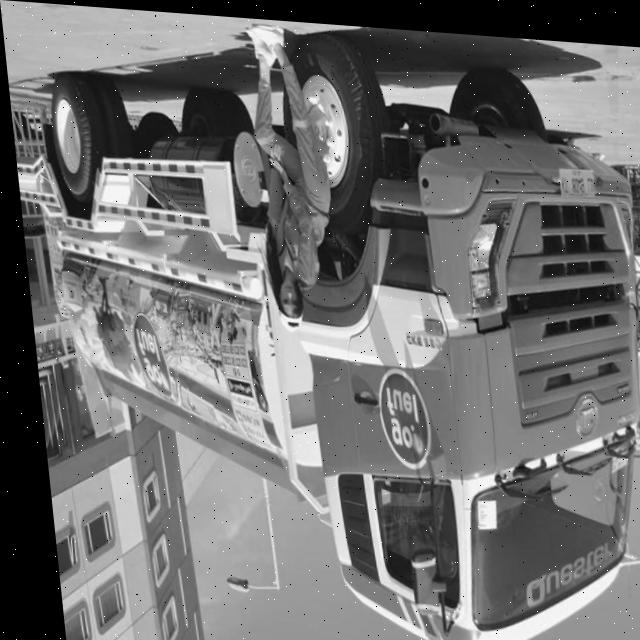truck: (272, 88, 640, 640)
